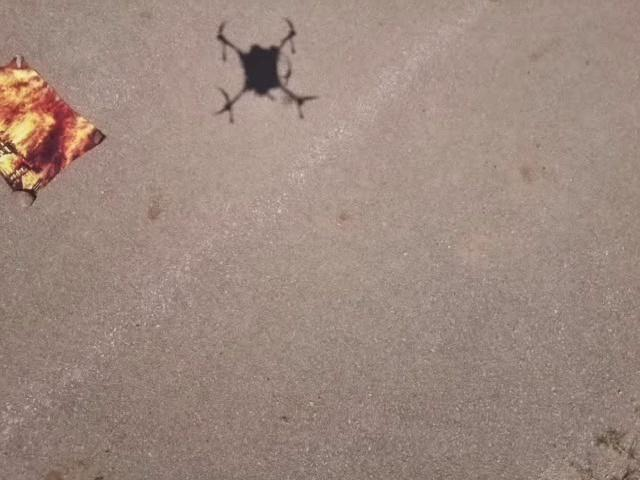fire-poster: (0, 53, 108, 206)
